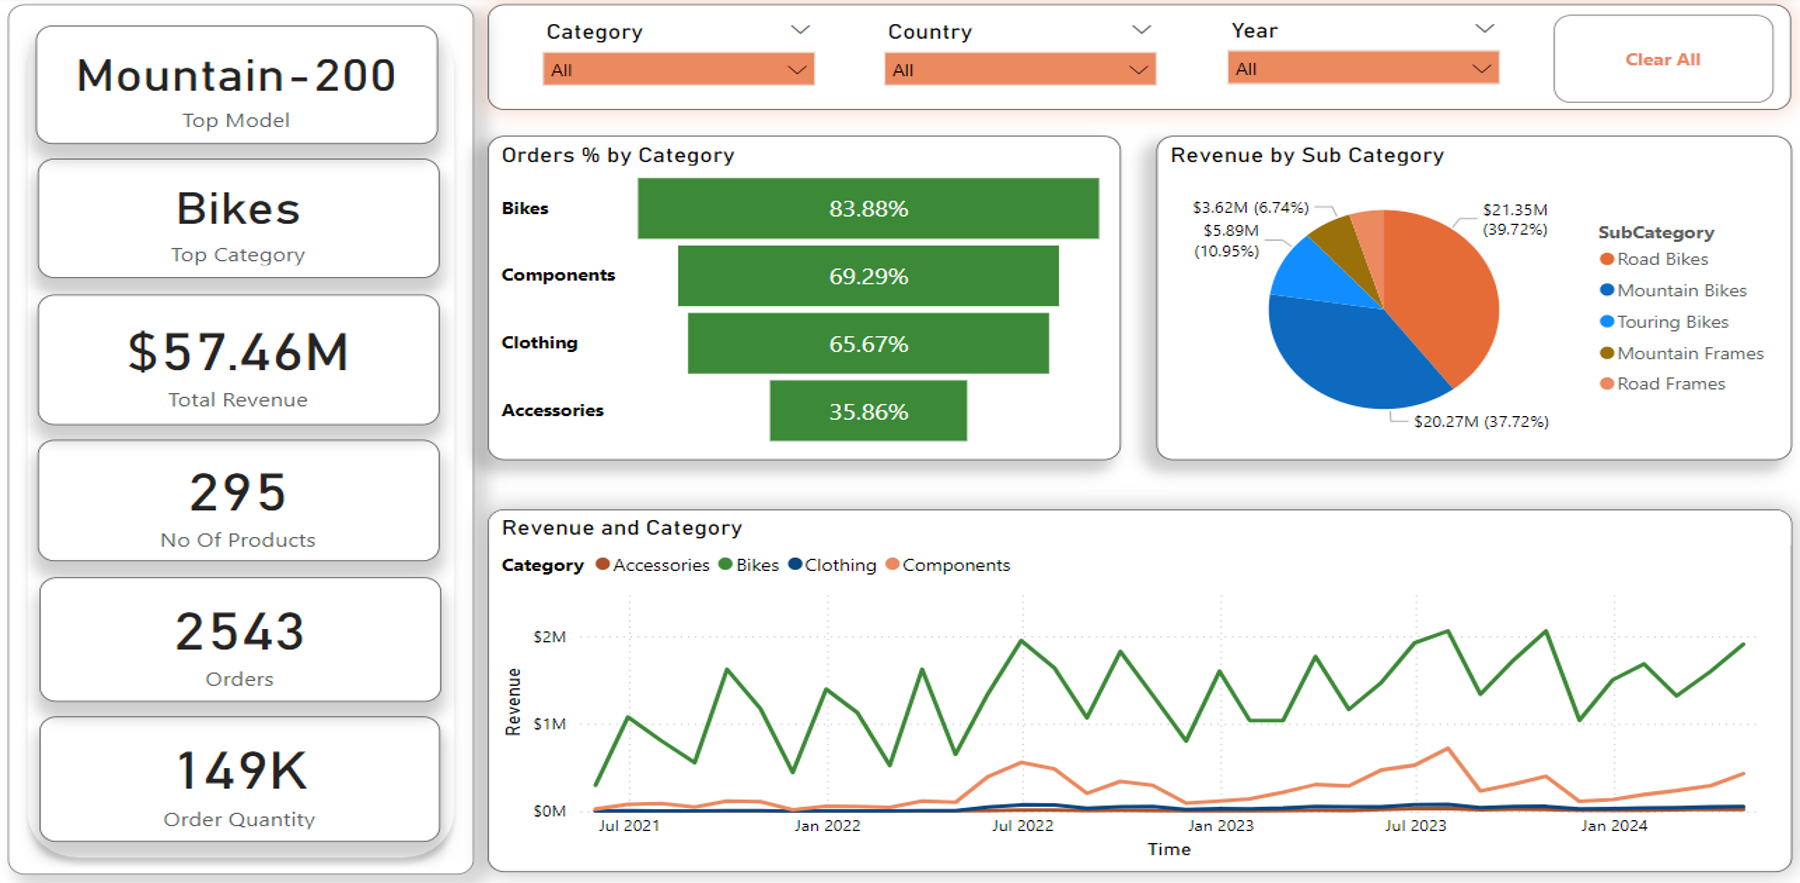

The dashboard page shown, as its layout file describes it:
{"tool":"powerbi","page":{"name":"Product","canvas":[1280,720],"ordinal":1},"visuals":[{"type":"shape","box":[21.4,7.1,325.7,704.3],"z":0},{"type":"shape","box":[357,7.7,910.5,85.4],"z":1000},{"type":"lineChart","title":"Revenue  and Category","fields":{"Y":["FactSales.TotalRevenue"],"Series":["DimProduct.Category"],"Category":["Date.Date.Variation.Date Hierarchy.Year"]},"box":[356.7,416.1,911.5,293.3],"z":2000},{"type":"slicer","fields":{"Values":["Date.Year"]},"box":[862.9,14,210.4,71.4],"z":3000},{"type":"pieChart","title":"Revenue by Sub Category","fields":{"Category":["DimProduct.SubCategory"],"Y":["FactSales.Total Revenue"]},"box":[823.8,113.5,443.8,262.7],"z":4000},{"type":"slicer","fields":{"Values":["DimCustomer.Country"]},"box":[624,14.3,210.4,71.4],"z":5000},{"type":"slicer","fields":{"Values":["DimProduct.Category"]},"box":[385.1,14.2,210.4,71.4],"z":6000},{"type":"card","fields":{"Values":["DimProduct.Top Category"]},"box":[42.4,132.3,280.5,96.9],"z":7000},{"type":"card","fields":{"Values":["DimProduct.Top Model"]},"box":[42,24.2,280.5,95.6],"z":8000},{"type":"card","fields":{"Values":["DimProduct.No Of Products"]},"box":[43.1,360,280.5,98.2],"z":9000},{"type":"card","fields":{"Values":["FactSales.Order Quantity"]},"box":[43.9,583.9,280,101.4],"z":10000},{"type":"card","fields":{"Values":["FactSales.Orders"]},"box":[43.5,470.7,280.5,100.7],"z":11000},{"type":"actionButton","box":[1101.7,15.9,153.2,71.3],"z":12000},{"type":"funnel","title":"Orders % by Category","fields":{"Category":["DimProduct.Category"],"Y":["Divide(FactSales.Orders, ScopedEval(FactSales.Orders, []))"]},"box":[357,113.5,442.5,262.7],"z":13000},{"type":"card","fields":{"Values":["FactSales.Total Revenue"]},"box":[42.7,241.7,280.5,105.8],"z":14000}]}

Visuals, with their boxes on the page's 1280x720 design canvas (x1, y1, x2, y2). These are canvas units, not pixel positions in the 1800x883 screenshot, which may show the page scaled, cropped or inside an application window:
shape: [21, 7, 347, 711]
shape: [357, 8, 1268, 93]
"Revenue  and Category" lineChart: [357, 416, 1268, 709]
slicer - Date.Year: [863, 14, 1073, 85]
"Revenue by Sub Category" pieChart: [824, 114, 1268, 376]
slicer - DimCustomer.Country: [624, 14, 834, 86]
slicer - DimProduct.Category: [385, 14, 596, 86]
card - DimProduct.Top Category: [42, 132, 323, 229]
card - DimProduct.Top Model: [42, 24, 322, 120]
card - DimProduct.No Of Products: [43, 360, 324, 458]
card - FactSales.Order Quantity: [44, 584, 324, 685]
card - FactSales.Orders: [44, 471, 324, 571]
actionButton: [1102, 16, 1255, 87]
"Orders % by Category" funnel: [357, 114, 800, 376]
card - FactSales.Total Revenue: [43, 242, 323, 348]
